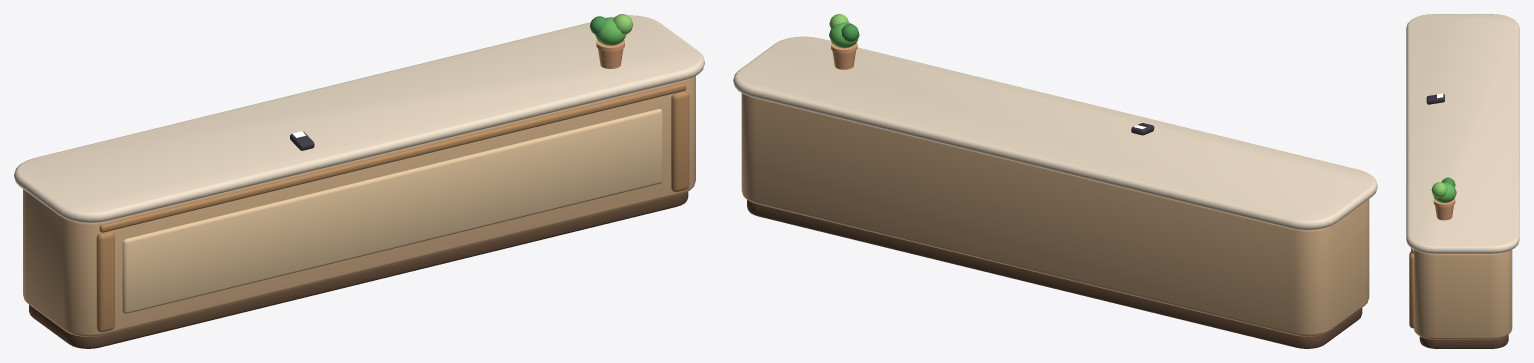
File: counter_long.glb
3 renders of one model, left to right at view 1: azimuth 30°, elevation 25°; view 2: azimuth 150°, elevation 25°; view 3: azimuth 270°, elevation 25°, orthographic. The views are drawn at different scales.
Parts seen in each view (by area): view 1: counter_long; view 2: counter_long; view 3: counter_long.
Part boxes in pixels (left/top/right/bottom): counter_long: left=14, top=14, right=704, bottom=348; counter_long: left=733, top=14, right=1377, bottom=348; counter_long: left=1406, top=14, right=1519, bottom=348.
Size of the model in its own units: 4.5 by 1.3 by 0.92.
